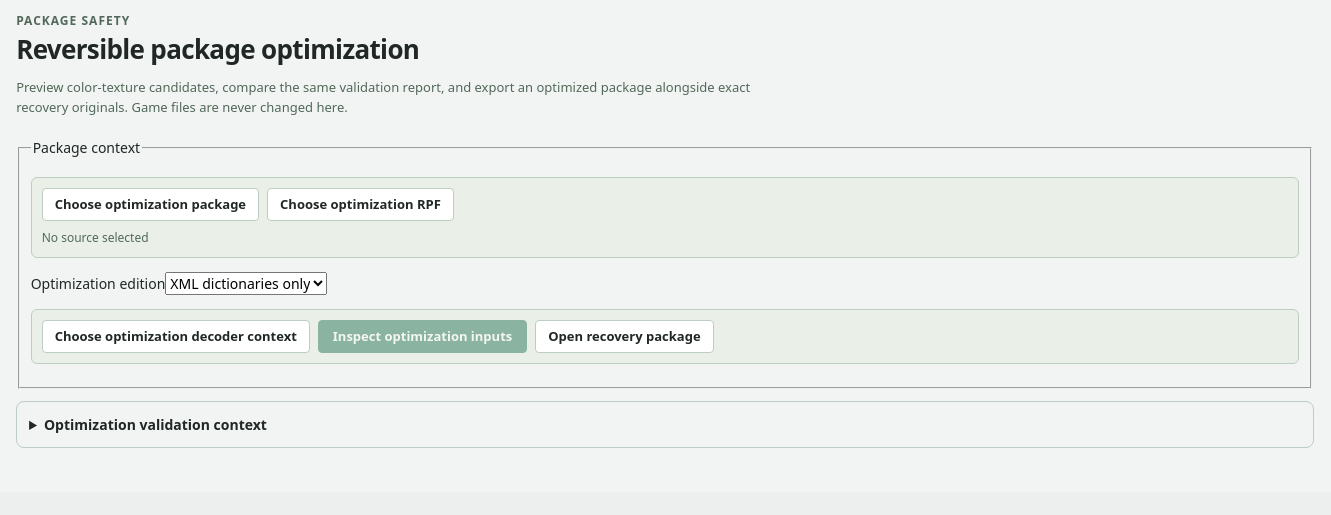
Test case: does not adopt contradictory report evidence in optimization
Click the button "Choose optimization package" at point(150, 205), box [42,188,259,221]
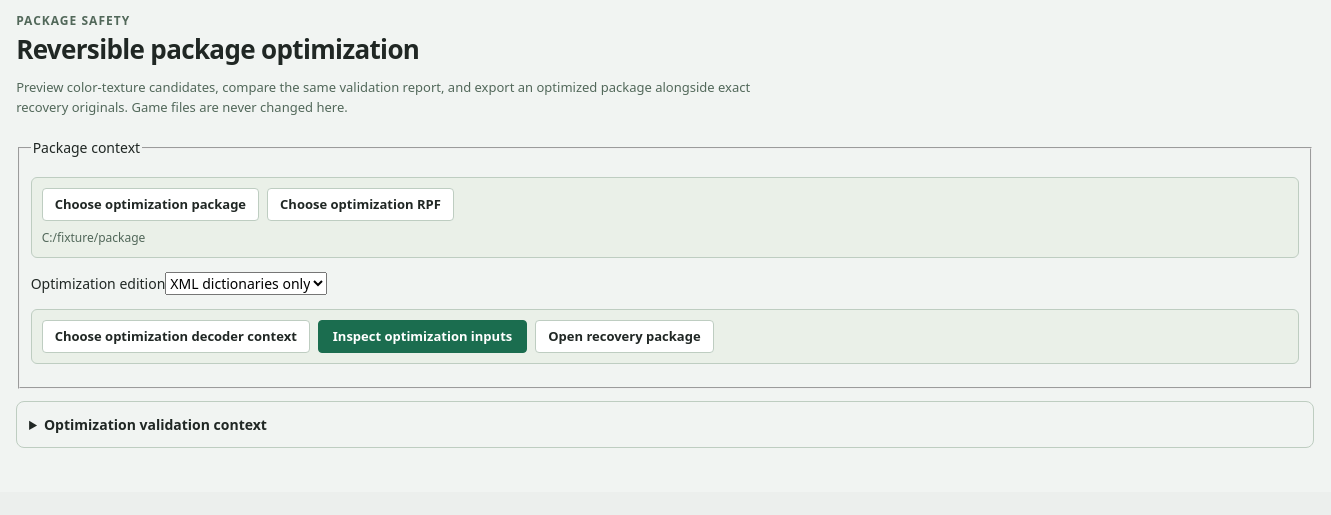
Click the button "Inspect optimization inputs" at point(423, 337), box [318,320,527,353]
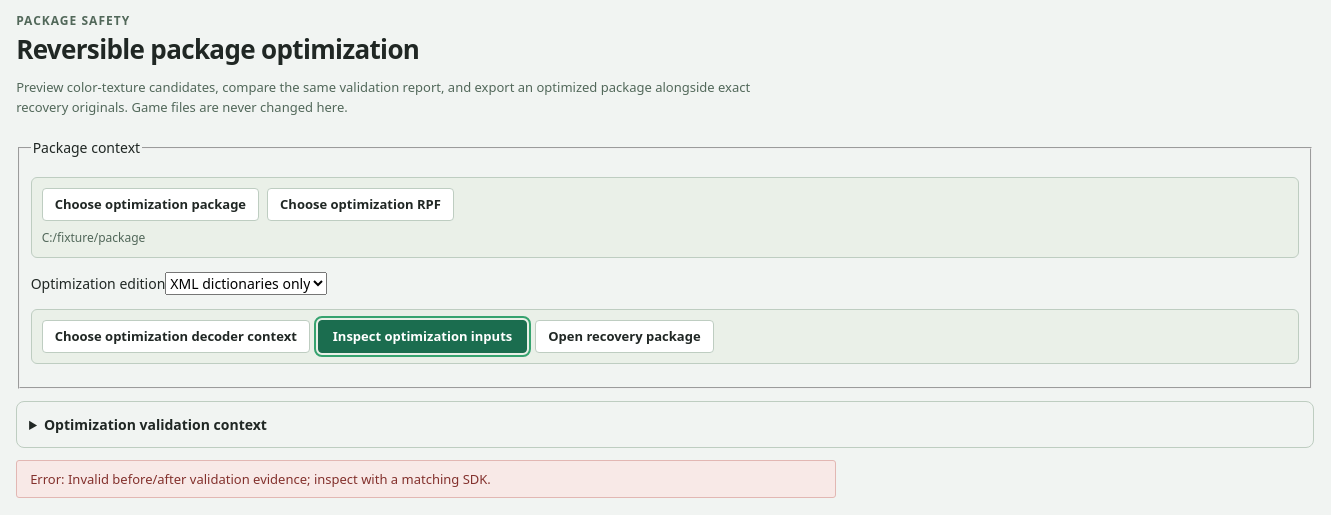
Result: the message shows "validation evidence" at [30,470,491,488]
